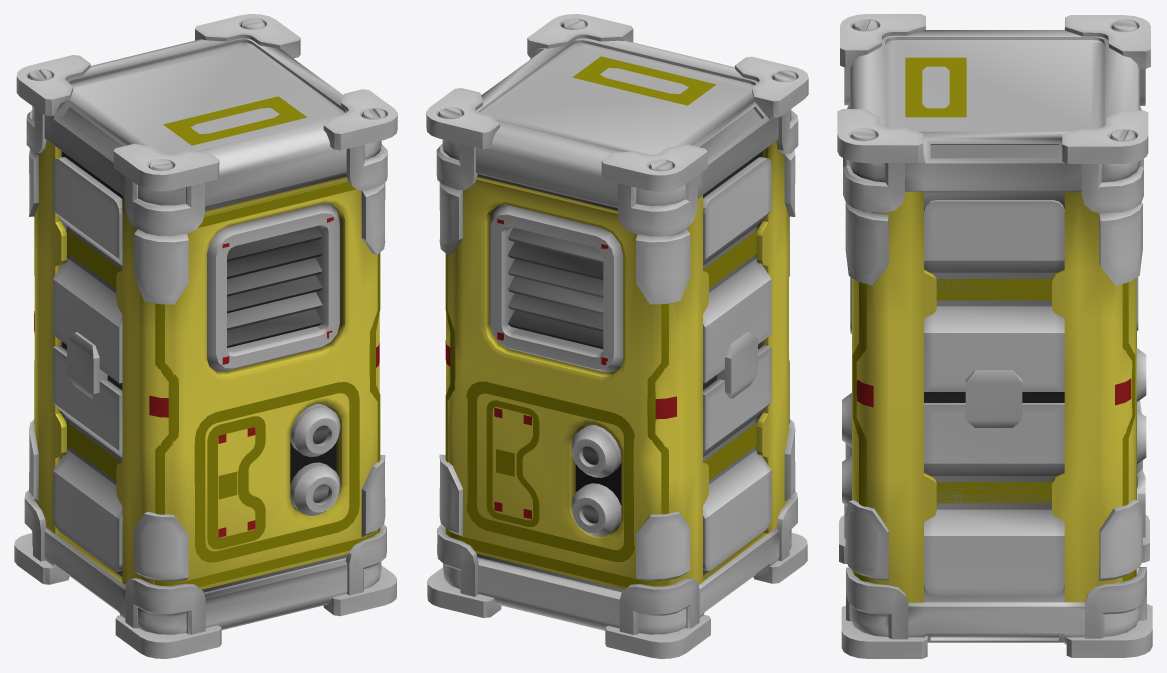
Rendered from env_undergroundstation_packages05.fbx.
The picture shows the model from 3 angles, left to right: view 1: azimuth 30°, elevation 25°; view 2: azimuth 150°, elevation 25°; view 3: azimuth 270°, elevation 25°; orthographic projection. The views are drawn at different scales.
Visible parts, largest first — view 1: UVTrim.001, shinymetal, Cube.003_t_meshdecal_mechanic01, Object; view 2: UVTrim.001, shinymetal, Cube.003_t_meshdecal_mechanic01, Object; view 3: UVTrim.001, shinymetal, Cube.003_t_meshdecal_mechanic01, Object.
Boxes of the visible parts, bbox=[...] form: UVTrim.001: bbox=[14, 14, 397, 658]; shinymetal: bbox=[34, 140, 379, 589]; Cube.003_t_meshdecal_mechanic01: bbox=[34, 96, 380, 587]; Object: bbox=[34, 217, 379, 537]; UVTrim.001: bbox=[426, 14, 808, 658]; shinymetal: bbox=[446, 141, 788, 589]; Cube.003_t_meshdecal_mechanic01: bbox=[445, 56, 789, 587]; Object: bbox=[445, 219, 676, 519]; UVTrim.001: bbox=[837, 14, 1152, 658]; shinymetal: bbox=[852, 191, 1136, 602]; Cube.003_t_meshdecal_mechanic01: bbox=[852, 57, 1136, 581]; Object: bbox=[857, 378, 1131, 407].
Size of the model in its own units: 40.94 by 73.97 by 41.01.
